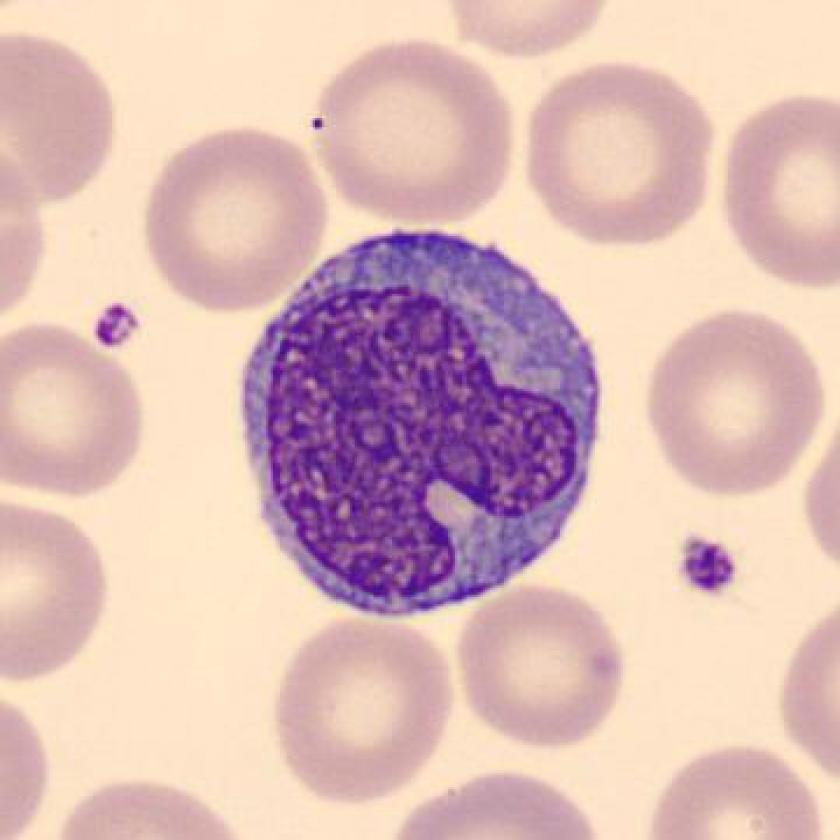monocyte: (225, 212, 617, 626)
